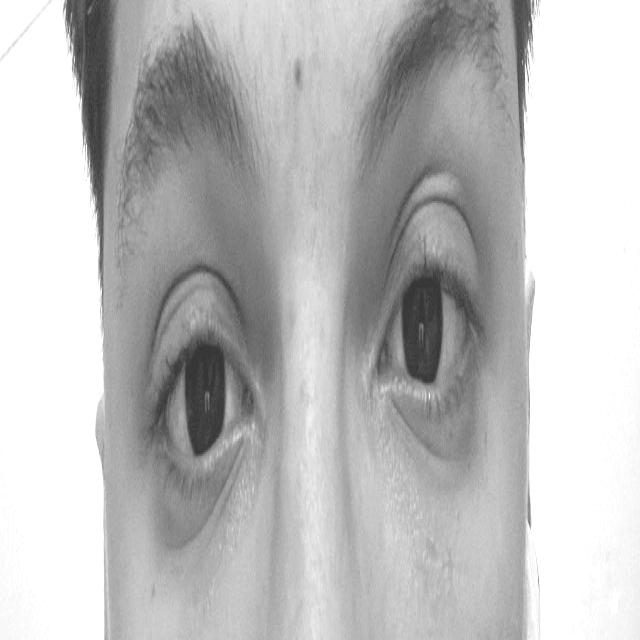real: (126, 166, 505, 574)
